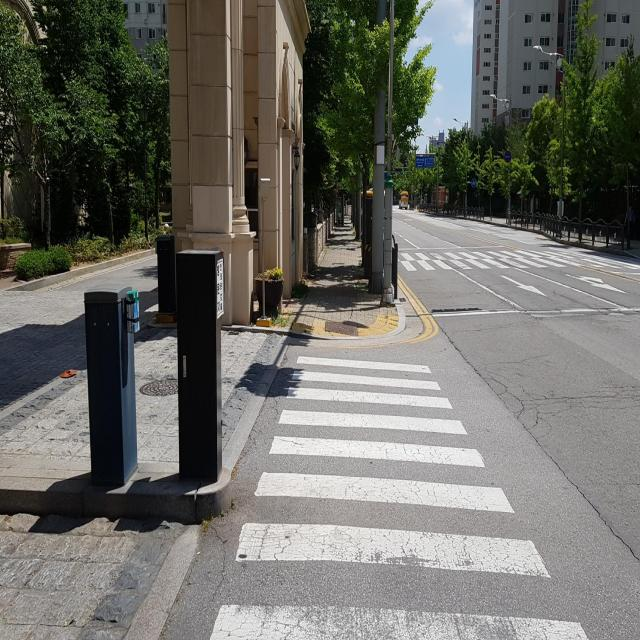횡단보도: (210, 356, 589, 640), (396, 247, 618, 270)
